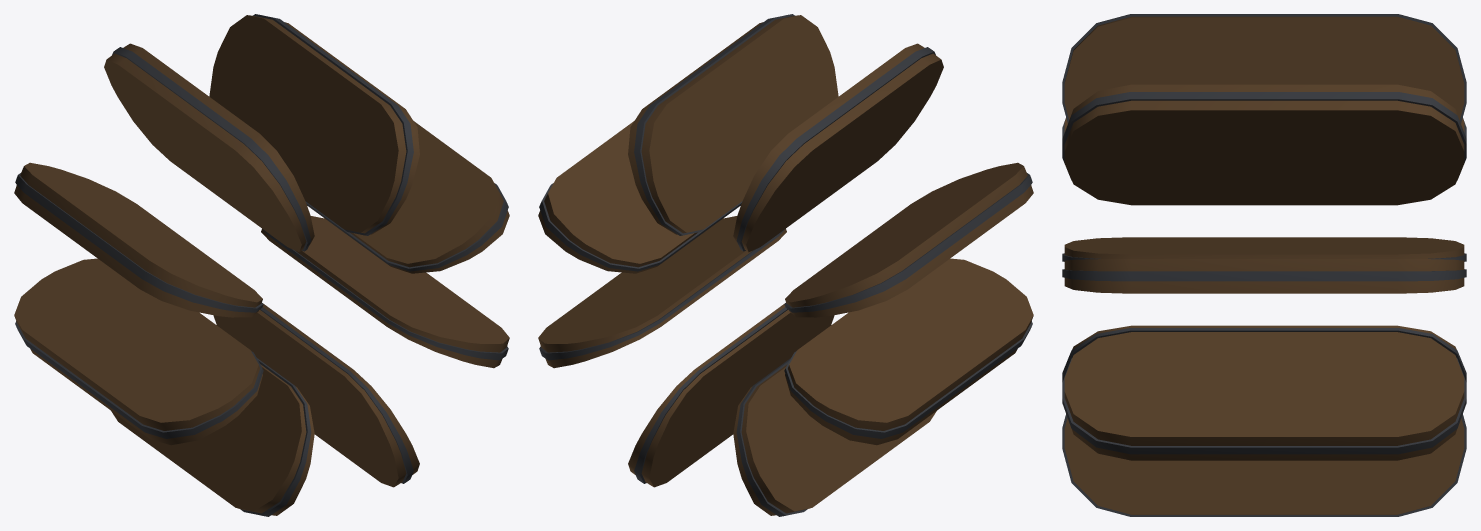
File: er5_confinement.obj
3 views of the same model, side by side, from view 1: azimuth 30°, elevation 25°; view 2: azimuth 150°, elevation 25°; view 3: azimuth 270°, elevation 25° (orthographic). The views are drawn at different scales.
Visible parts, largest first — view 1: er5_confinement; view 2: er5_confinement; view 3: er5_confinement.
Boxes of the visible parts, x1,y1,x2,y2 form: er5_confinement: (14,14,509,516); er5_confinement: (538,14,1033,516); er5_confinement: (1062,14,1466,516).
Bounding box in the file's own units: 4.31 × 4.31 × 3.68.
